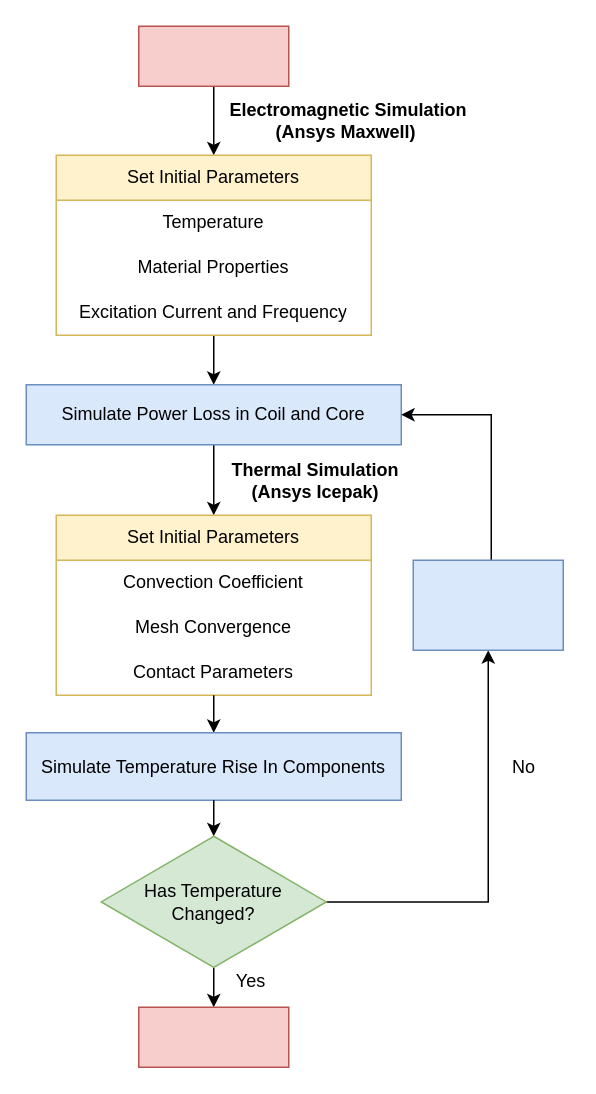
The diagram is 596 pixels wide and 1094 high, and some of its shapes have lost their labels. Each missing label, with the centre of its shape:
End: (213,1036)
Input New Temperature Information: (487,604)
Start: (213,55)
